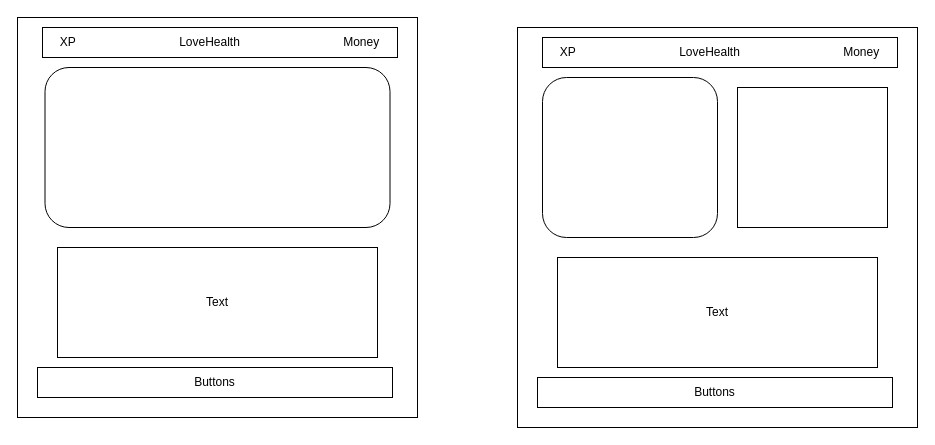
This 935x445 diagram has some shape labels left out. The shapes that lost their labels are listed below. From the top down, each one's centre as x and y in pixels, then its label:
At (x=217, y=147): "Pic?".
At (x=630, y=157): "Pic of boy".
At (x=812, y=157): "Boy Stats?".
